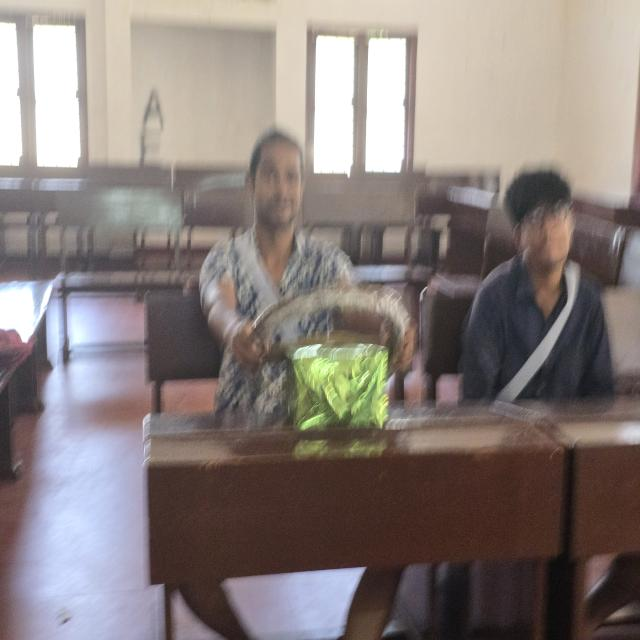seatbelt: (490, 277, 597, 392), (237, 249, 300, 307)
